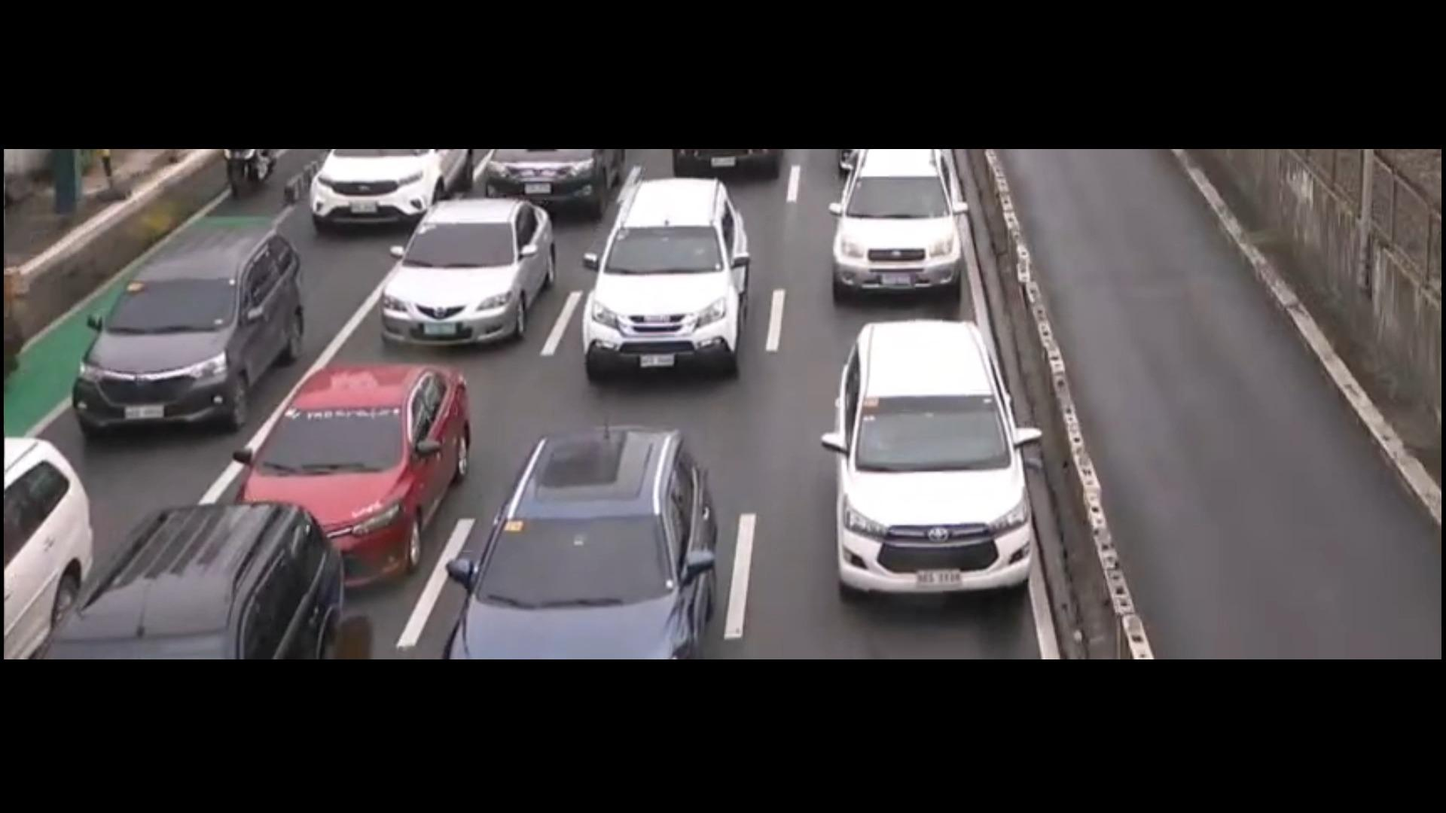SUV: (439, 428, 718, 659), (821, 322, 1042, 595), (72, 229, 309, 441), (42, 500, 348, 658), (581, 178, 752, 385), (830, 151, 975, 301), (310, 144, 478, 232), (481, 152, 631, 214)
Sedan: (233, 362, 474, 592), (380, 199, 558, 351)
